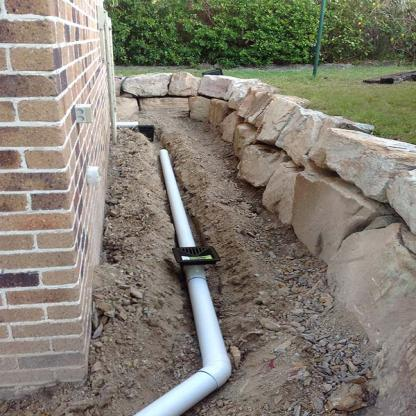PVC: (132, 151, 232, 415), (113, 121, 137, 127)
